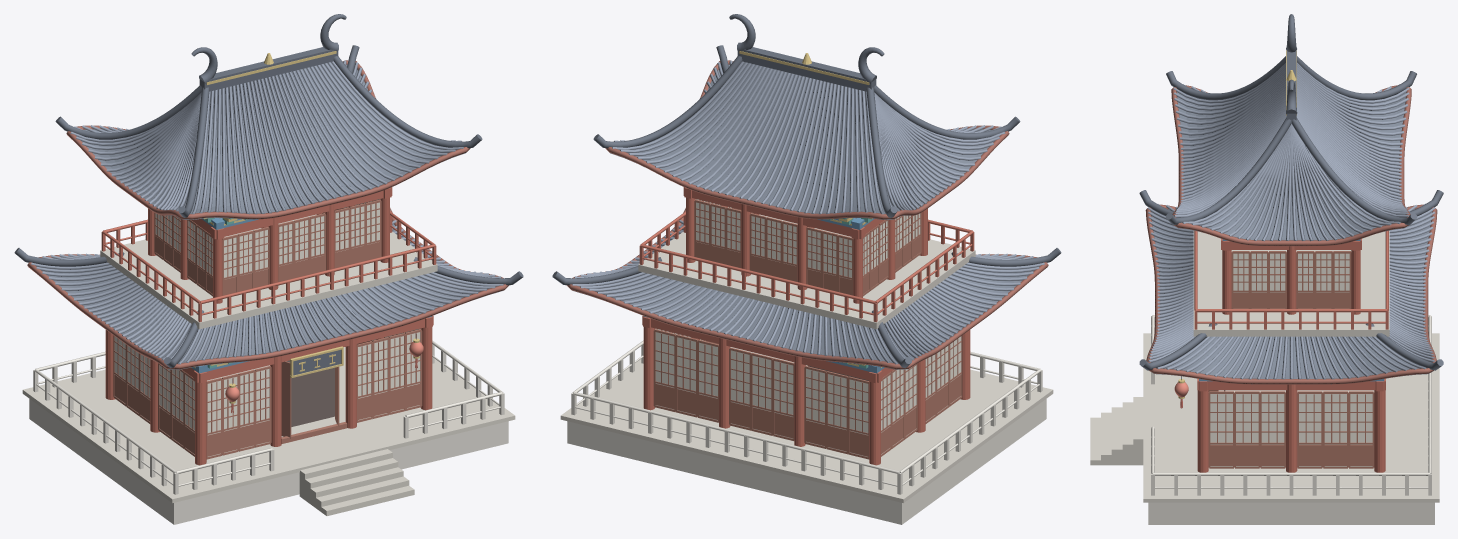
Rendered from pavilion.glb.
The picture shows the model from 3 angles, left to right: view 1: azimuth 30°, elevation 25°; view 2: azimuth 150°, elevation 25°; view 3: azimuth 270°, elevation 25°; orthographic projection.
Parts seen in each view (by area): view 1: pavilion; view 2: pavilion; view 3: pavilion.
Boxes of the visible parts, <box> form: pavilion: <box>14,14,523,524</box>; pavilion: <box>552,14,1061,524</box>; pavilion: <box>1090,14,1443,524</box>.
Size of the model in its own units: 17.17 by 18.28 by 14.79.
